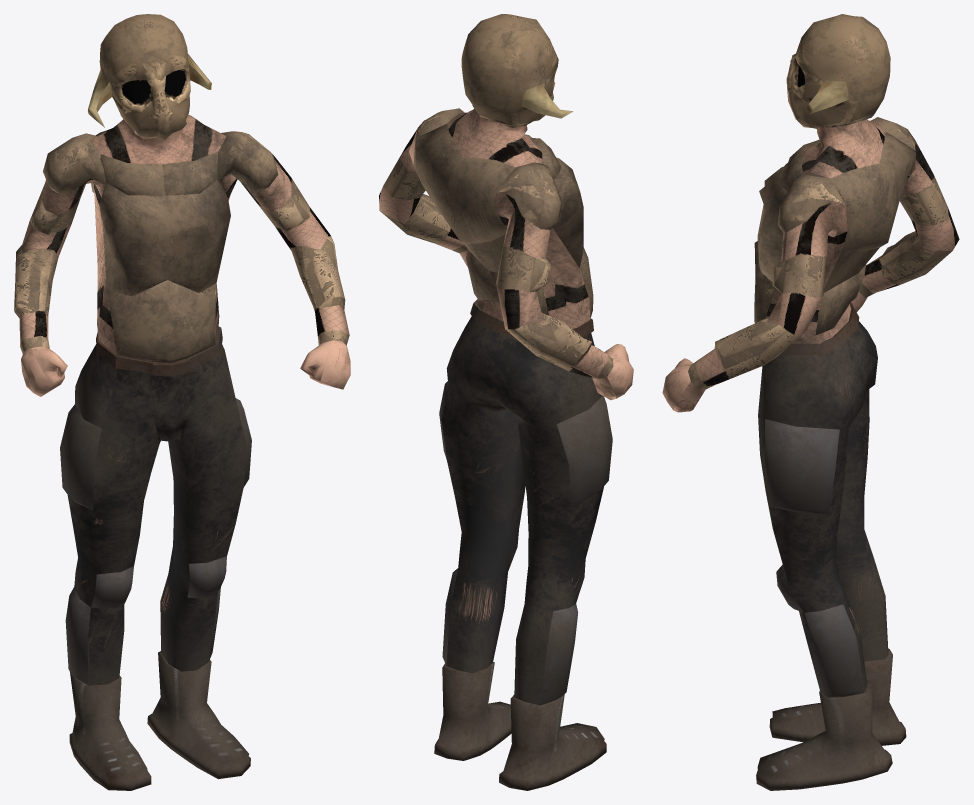
Rendered from Anim_ataque_d1_npc1.0014.obj.
3 views of the same model, side by side, from view 1: azimuth 30°, elevation 25°; view 2: azimuth 150°, elevation 25°; view 3: azimuth 270°, elevation 25° (orthographic).
Visible parts, largest first — view 1: NPC2; view 2: NPC2; view 3: NPC2.
Part boxes in pixels (box(x1,y1,x2,y2)): NPC2: box(14, 14, 350, 790); NPC2: box(379, 14, 633, 790); NPC2: box(662, 14, 959, 790).
Size of the model in its own units: 3.75 by 9.61 by 3.5.
